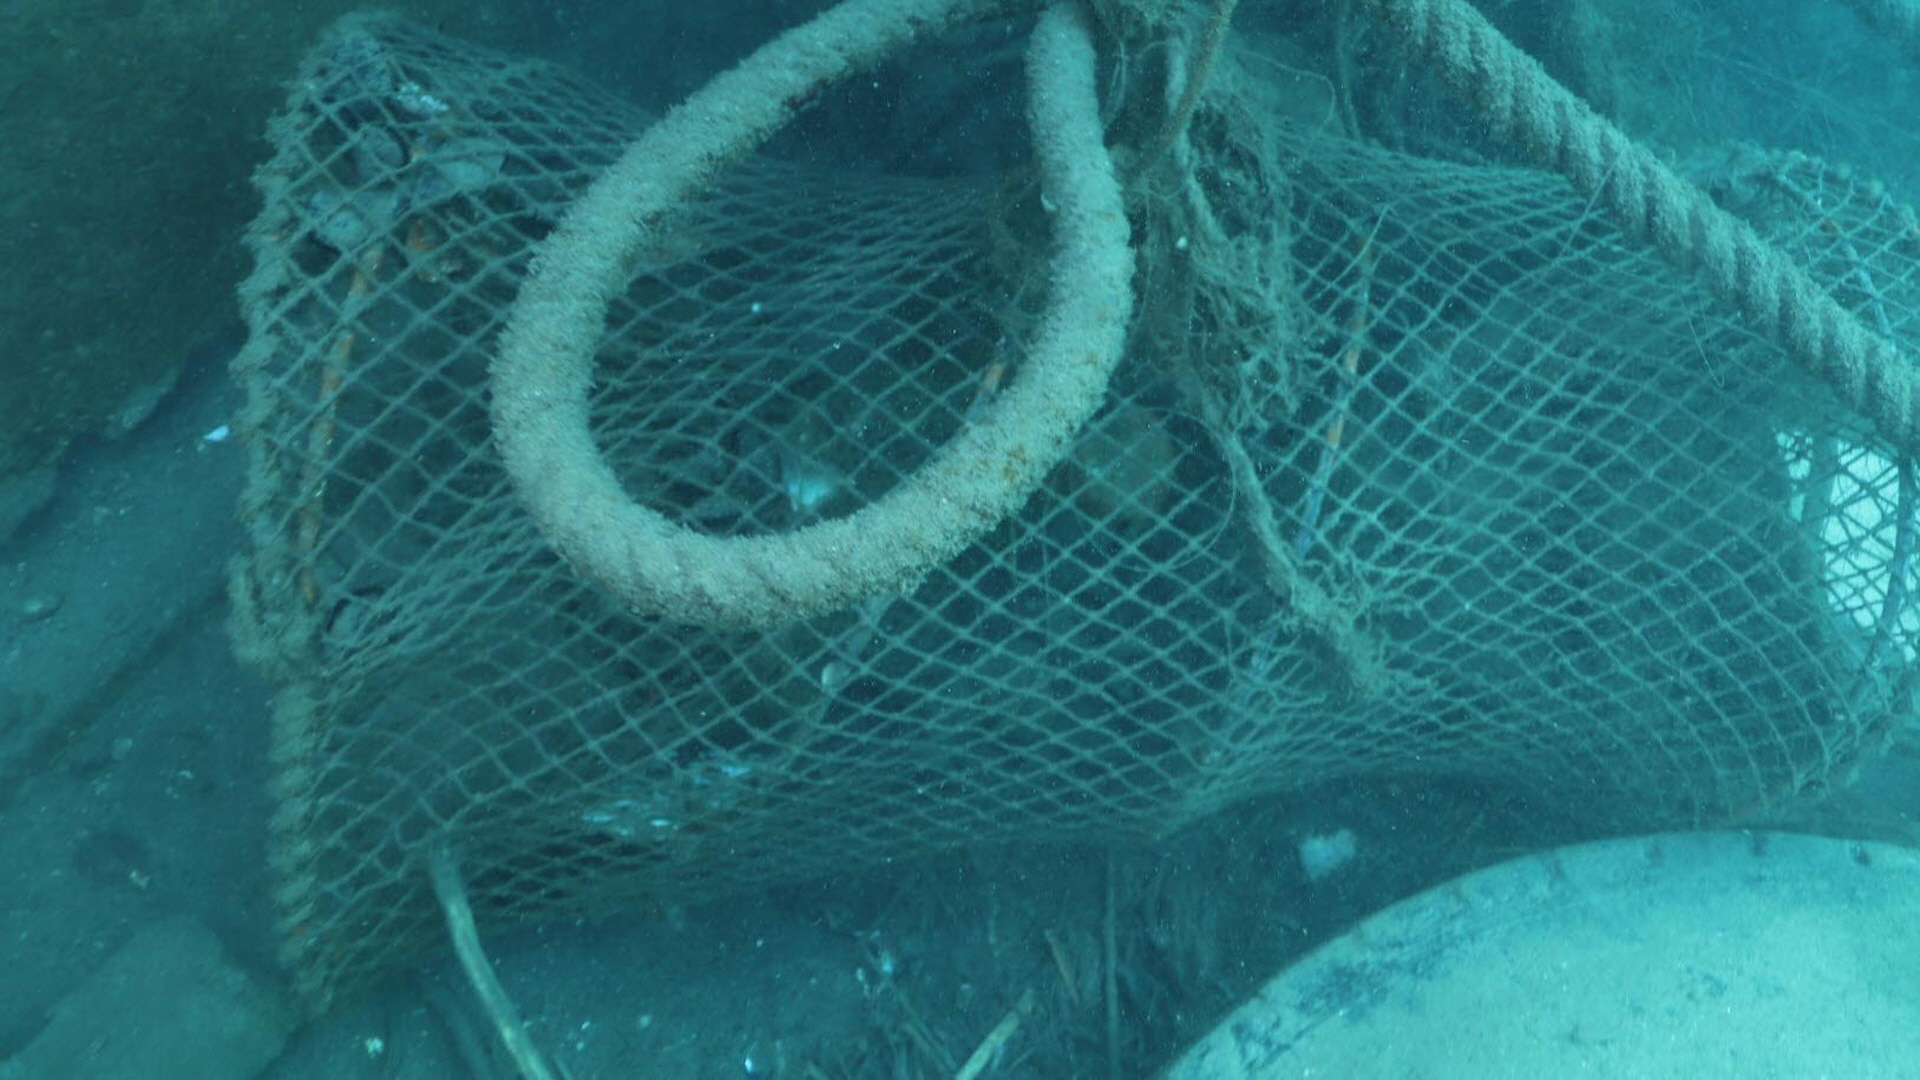rope: (483, 0, 1141, 632), (1366, 0, 1920, 454)
spring fish trap: (222, 1, 1920, 1009)
